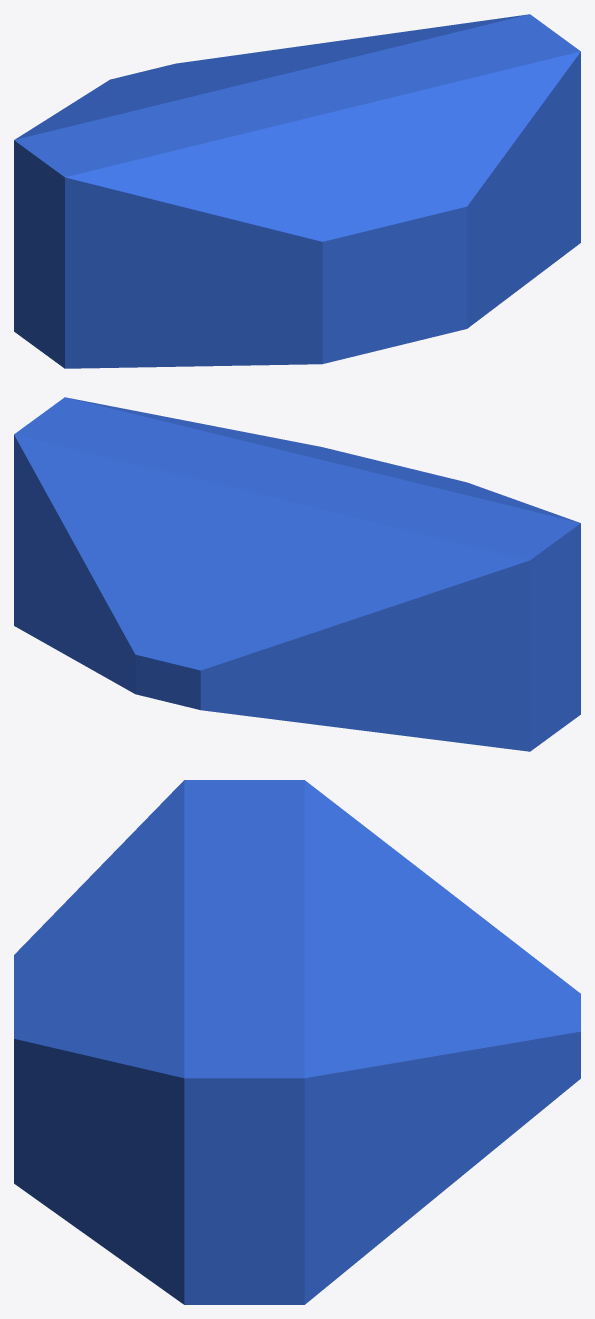
Rendered from Collision_Workbench_Vice.fbx.
3 views of the same model, one above another, from view 1: azimuth 30°, elevation 25°; view 2: azimuth 150°, elevation 25°; view 3: azimuth 270°, elevation 25° (orthographic). The views are drawn at different scales.
Parts seen in each view (by area): view 1: UCX_Workbench_Vice_1; view 2: UCX_Workbench_Vice_1; view 3: UCX_Workbench_Vice_1.
Part boxes in pixels (x1,y1,x2,y2): UCX_Workbench_Vice_1: (14, 14, 580, 368); UCX_Workbench_Vice_1: (14, 397, 580, 751); UCX_Workbench_Vice_1: (14, 780, 580, 1304).
Size of the model in its own units: 42.43 by 15.04 by 34.09.
